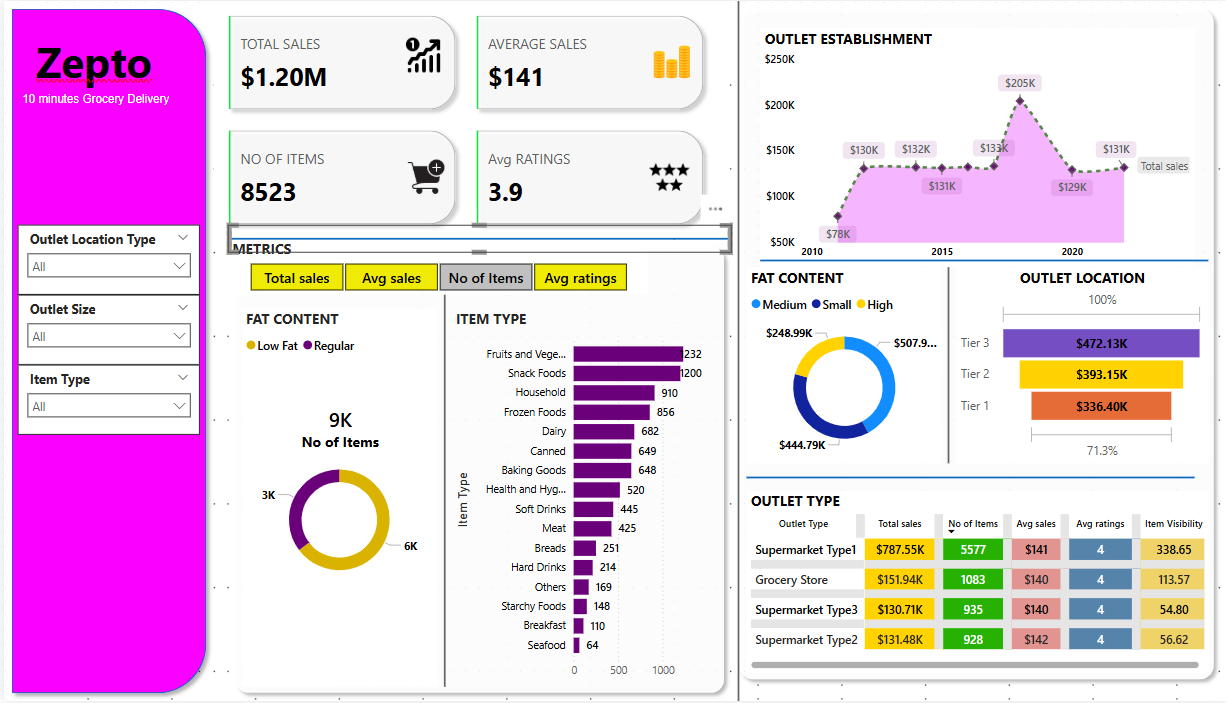

Layout of this report page (visuals, bound fields, positions):
{"tool":"powerbi","page":{"name":"Page 1","canvas":[1400,800],"ordinal":0},"visuals":[{"type":"shape","box":[0,0,240,800],"z":0},{"type":"textbox","box":[32,32,224,112],"z":1000},{"type":"textbox","box":[16,80,192,64],"z":2000},{"type":"cardVisual","fields":{"Data":["BlinkIT Grocery Data.Total sales","BlinkIT Grocery Data.Avg sales","BlinkIT Grocery Data.No of Items","BlinkIT Grocery Data.Avg ratings"]},"box":[240,0,576,272],"z":3000},{"type":"shape","box":[256,272,576,528],"z":4000},{"type":"donutChart","title":"FAT CONTENT","fields":{"Y":["BlinkIT Grocery Data.No of Items"],"Category":["BlinkIT Grocery Data.Item Fat Content"]},"box":[272,352,224,432],"z":5000},{"type":"slicer","title":"METRICS","fields":{"Values":["matrics.matrics"]},"box":[256,272,480,64],"z":6000},{"type":"cardVisual","fields":{"Data":["BlinkIT Grocery Data.No of Items"]},"box":[304,432,160,112],"z":7000},{"type":"shape","box":[496,336,16,448],"z":8000},{"type":"barChart","title":"ITEM TYPE","fields":{"Y":["BlinkIT Grocery Data.No of Items"],"Category":["BlinkIT Grocery Data.Item Type"]},"box":[512,352,304,432],"z":9000},{"type":"shape","box":[832,0,560,784],"z":10000},{"type":"lineChart","title":"OUTLET ESTABLISHMENT ","fields":{"Category":["BlinkIT Grocery Data.Outlet Establishment Year"],"Y":["BlinkIT Grocery Data.Total sales"]},"box":[864,32,496,272],"z":11000},{"type":"shape","box":[864,288,512,16],"z":12000},{"type":"donutChart","title":"FAT CONTENT","fields":{"Category":["BlinkIT Grocery Data.Outlet Size"],"Y":["BlinkIT Grocery Data.Total sales"]},"box":[848,304,224,224],"z":13000},{"type":"funnel","title":"OUTLET LOCATION","fields":{"Y":["BlinkIT Grocery Data.Total sales"],"Category":["BlinkIT Grocery Data.Outlet Location Type"]},"box":[1088,304,288,224],"z":14000},{"type":"pivotTable","title":"OUTLET TYPE","fields":{"Rows":["BlinkIT Grocery Data.Outlet Type"],"Values":["BlinkIT Grocery Data.Total sales","BlinkIT Grocery Data.No of Items","BlinkIT Grocery Data.Avg sales","BlinkIT Grocery Data.Avg ratings","Sum(BlinkIT Grocery Data.Item Visibility)"]},"box":[848,560,528,208],"z":15000},{"type":"shape","box":[1072,304,16,224],"z":16000},{"type":"shape","box":[848,528,512,32],"z":17000},{"type":"shape","box":[832,0,16,800],"z":18000},{"type":"slicer","fields":{"Values":["BlinkIT Grocery Data.Outlet Location Type"]},"box":[16,256,208,80],"z":19000},{"type":"slicer","fields":{"Values":["BlinkIT Grocery Data.Outlet Size"]},"box":[16,336,208,80],"z":20000},{"type":"slicer","fields":{"Values":["BlinkIT Grocery Data.Item Type"]},"box":[16,416,208,80],"z":21000},{"type":"shape","box":[256,256,576,32],"z":22000}]}

Visuals, with their boxes in screenshot pixels (x1, y1, x2, y2), scaled from the page's 1400x800 canvas onto the 1226x703 screenshot:
shape: [0, 0, 210, 702]
textbox: [28, 28, 224, 127]
textbox: [14, 70, 182, 127]
cardVisual - BlinkIT Grocery Data.Total sales x BlinkIT Grocery Data.Avg sales: [210, 0, 715, 239]
shape: [224, 239, 729, 702]
"FAT CONTENT" donutChart: [238, 309, 434, 689]
"METRICS" slicer: [224, 239, 645, 295]
cardVisual - BlinkIT Grocery Data.No of Items: [266, 380, 406, 478]
shape: [434, 295, 448, 689]
"ITEM TYPE" barChart: [448, 309, 715, 689]
shape: [729, 0, 1219, 689]
"OUTLET ESTABLISHMENT " lineChart: [757, 28, 1191, 267]
shape: [757, 253, 1205, 267]
"FAT CONTENT" donutChart: [743, 267, 939, 464]
"OUTLET LOCATION" funnel: [953, 267, 1205, 464]
"OUTLET TYPE" pivotTable: [743, 492, 1205, 675]
shape: [939, 267, 953, 464]
shape: [743, 464, 1191, 492]
shape: [729, 0, 743, 702]
slicer - BlinkIT Grocery Data.Outlet Location Type: [14, 225, 196, 295]
slicer - BlinkIT Grocery Data.Outlet Size: [14, 295, 196, 366]
slicer - BlinkIT Grocery Data.Item Type: [14, 366, 196, 436]
shape: [224, 225, 729, 253]
